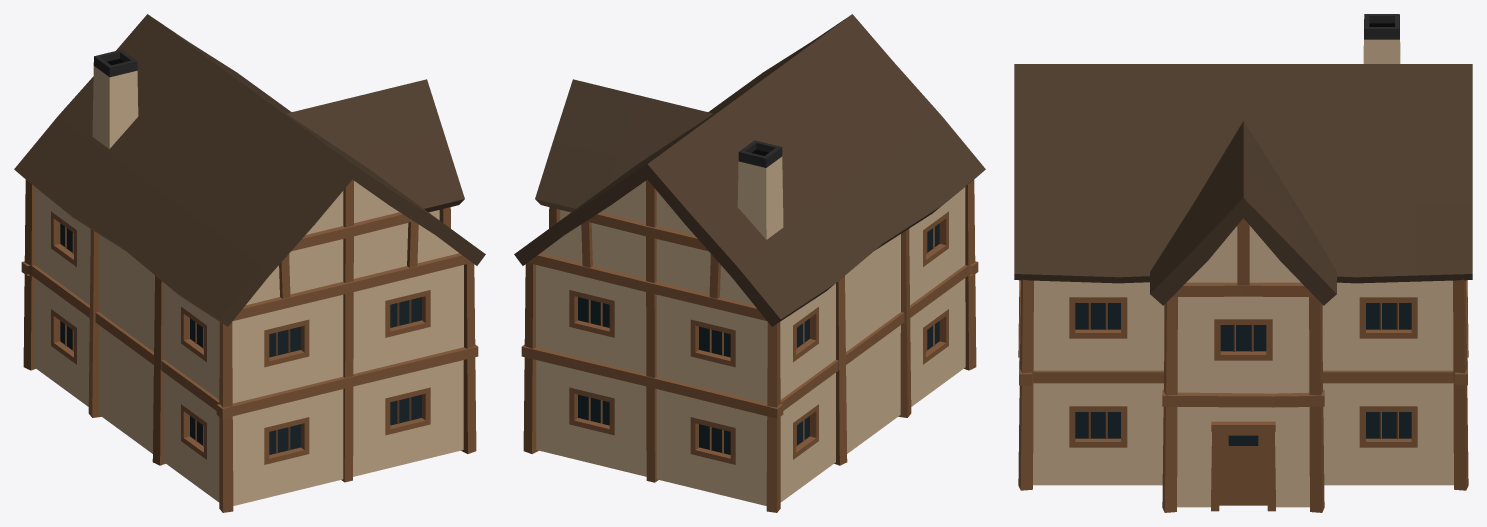
File: house-medieval-big.glb
3 renders of one model, left to right at view 1: azimuth 30°, elevation 25°; view 2: azimuth 150°, elevation 25°; view 3: azimuth 270°, elevation 25°, orthographic. The views are drawn at different scales.
Visible parts, largest first — view 1: house-medieval_big; view 2: house-medieval_big; view 3: house-medieval_big.
Boxes of the visible parts, box(x1,y1,x2,y2) form: house-medieval_big: box(14, 14, 485, 512); house-medieval_big: box(514, 14, 985, 512); house-medieval_big: box(1014, 14, 1472, 512).
Bounding box in the file's own units: 8.17 × 8.06 × 9.28.
